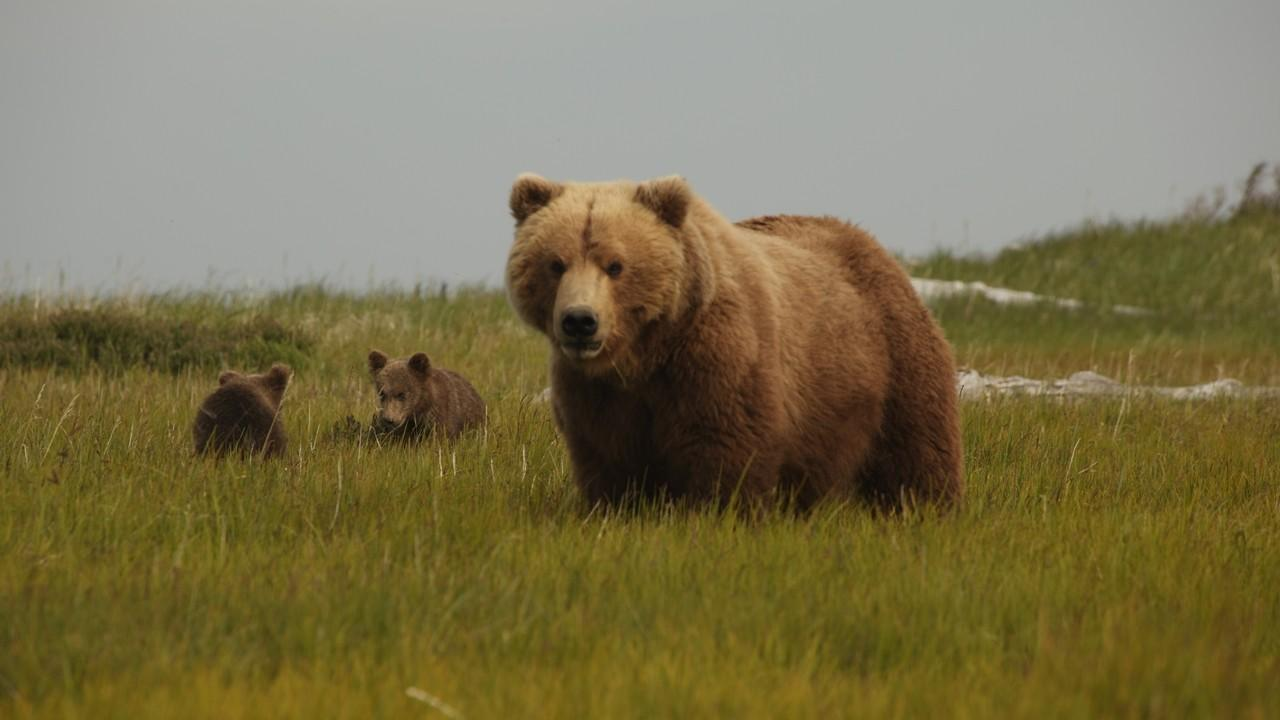bear: (499, 167, 963, 519), (361, 346, 486, 453), (190, 360, 294, 451)
